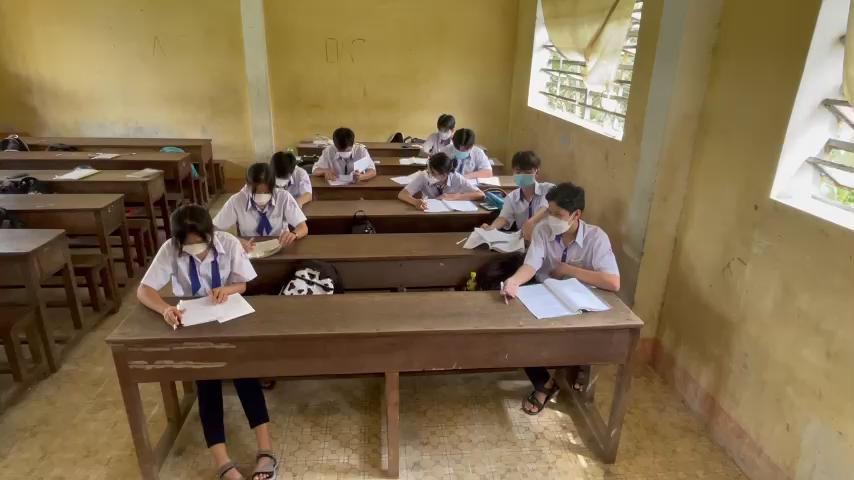Look Around: (535, 177, 591, 238), (419, 149, 466, 194)
